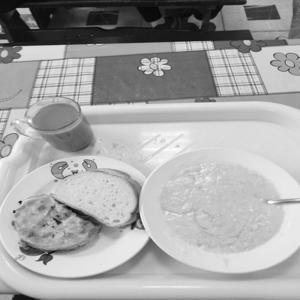bread: (43, 162, 156, 231)
cheese_sandwich: (1, 188, 108, 259)
coffee: (11, 91, 100, 163)
porridge: (147, 143, 288, 266)
